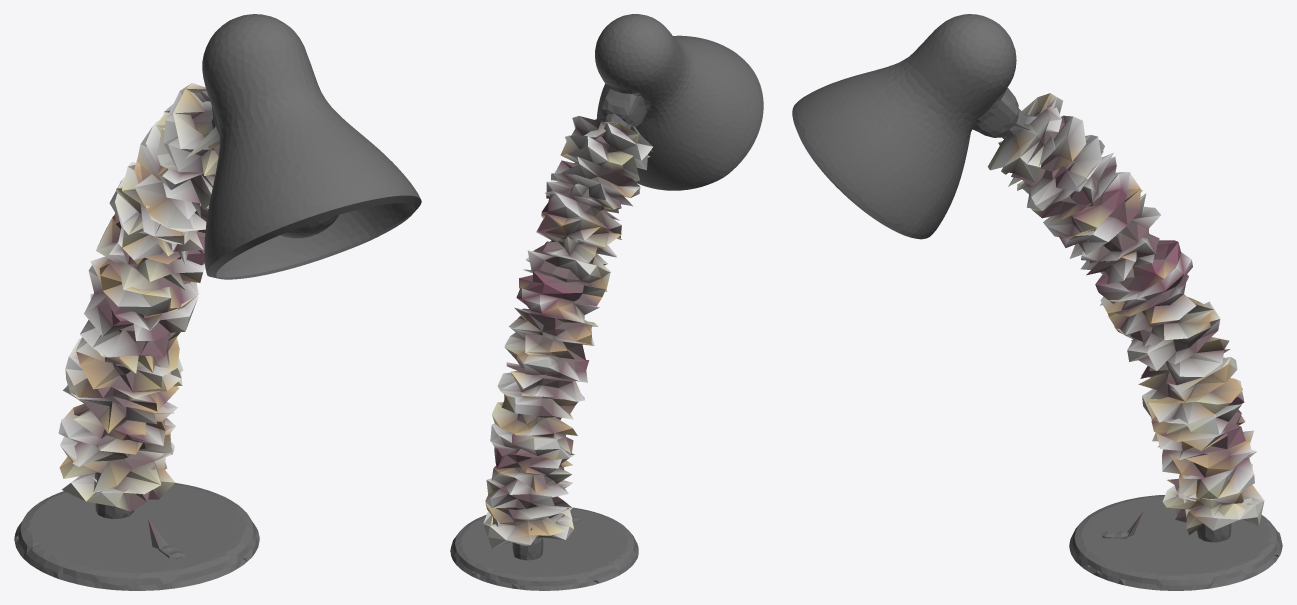
The model's file is lamp3_final200.obj.
3 views of the same model, side by side, from view 1: azimuth 30°, elevation 25°; view 2: azimuth 150°, elevation 25°; view 3: azimuth 270°, elevation 25° (orthographic). The views are drawn at different scales.
Bounding box in the file's own units: 0.568 × 1.55 × 1.31.
